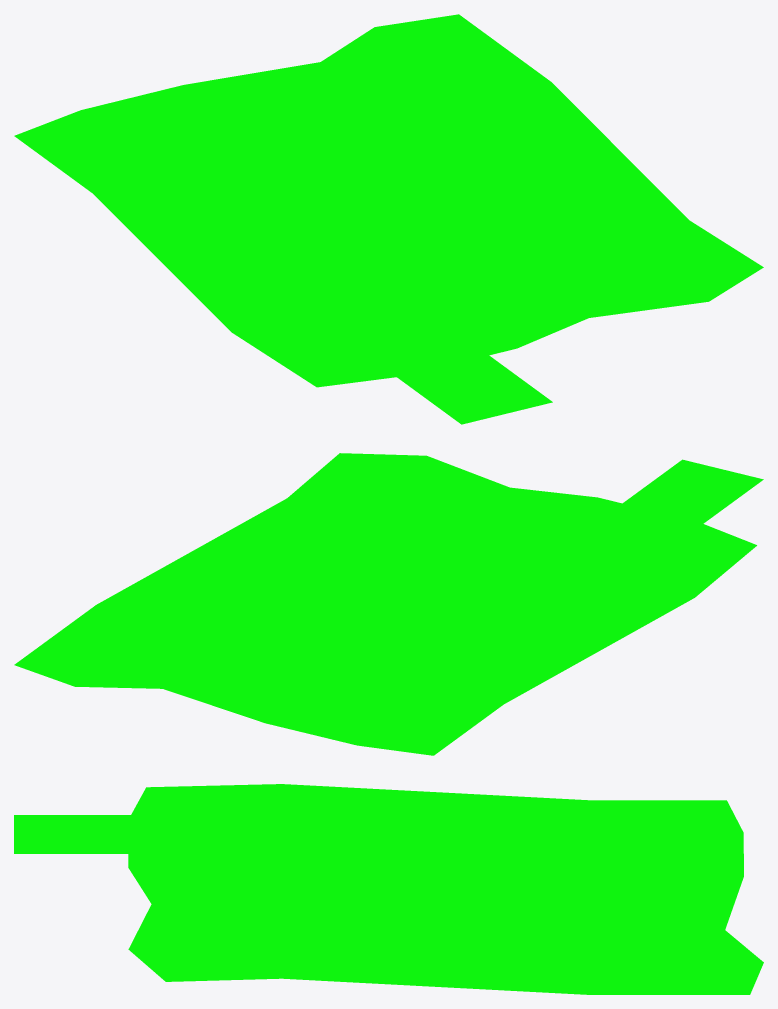
The model's file is s05b_na1-floor.glb.
3 renders of one model, top to bottom at view 1: azimuth 30°, elevation 25°; view 2: azimuth 150°, elevation 25°; view 3: azimuth 270°, elevation 25°, orthographic. The views are drawn at different scales.
Visible parts, largest first — view 1: collision_floor-colonly; view 2: collision_floor-colonly; view 3: collision_floor-colonly.
Boxes of the visible parts, x1,y1,x2,y2 form: collision_floor-colonly: (14,14,763,424); collision_floor-colonly: (14,453,763,755); collision_floor-colonly: (14,784,763,994).
Bounding box in the file's own units: 32.5 × 0.1016 × 48.83.
